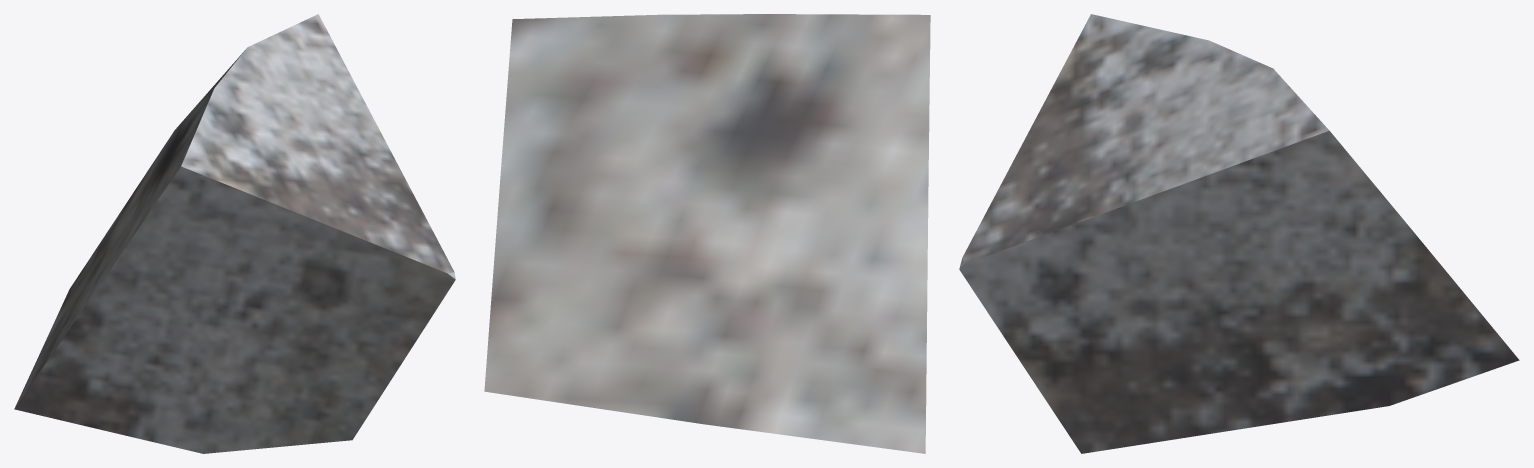
Rendered from Asteroid_Large_001_02_003_03_005.fbx.
3 views of the same model, side by side, from view 1: azimuth 30°, elevation 25°; view 2: azimuth 150°, elevation 25°; view 3: azimuth 270°, elevation 25° (orthographic). The views are drawn at different scales.
Visible parts, largest first — view 1: Asteroid_Large_001_02_003_03_005; view 2: Asteroid_Large_001_02_003_03_005; view 3: Asteroid_Large_001_02_003_03_005.
Part boxes in pixels (x1=…): Asteroid_Large_001_02_003_03_005: x1=14, y1=14, x2=455, y2=453; Asteroid_Large_001_02_003_03_005: x1=484, y1=14, x2=930, y2=453; Asteroid_Large_001_02_003_03_005: x1=959, y1=14, x2=1519, y2=453.
Size of the model in its own units: 2.88 by 3.01 by 3.84.
